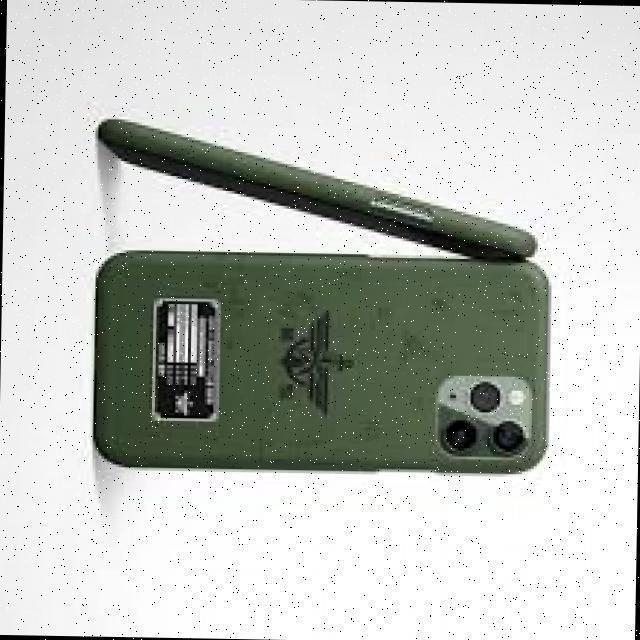phone: (67, 241, 567, 489), (85, 107, 554, 263)
